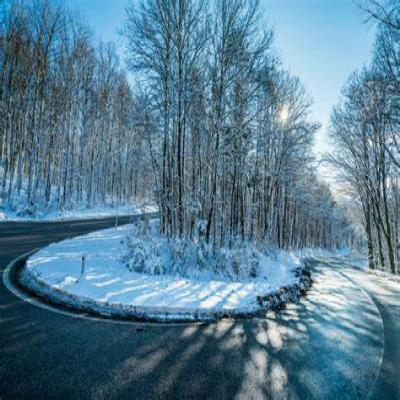iced-road: (0, 218, 400, 400)
